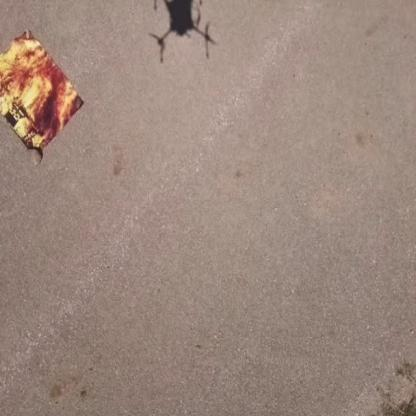fire-poster: (0, 27, 84, 166)
